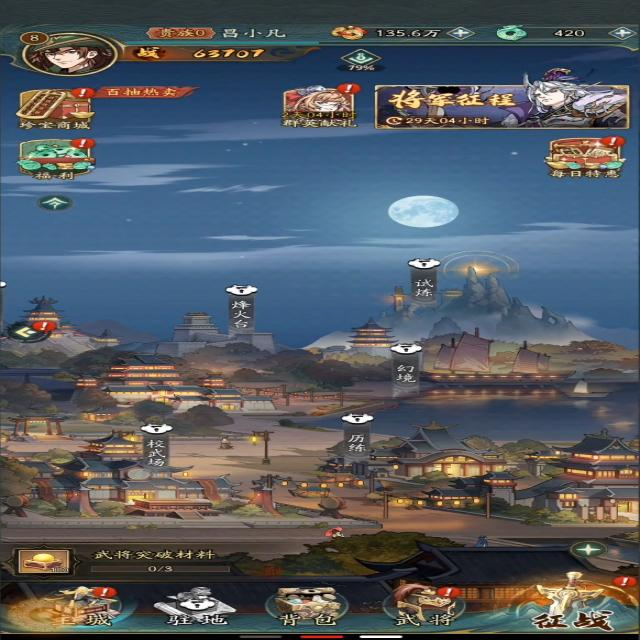hint-reddot: (331, 80, 367, 96), (29, 320, 66, 334), (69, 85, 99, 101), (66, 135, 100, 149), (600, 134, 630, 148), (611, 574, 638, 588), (90, 586, 118, 599), (438, 586, 460, 599)
navigation-DailyDiscount: (533, 134, 627, 184)
navigation-bag: (255, 581, 365, 631)
navigation-fenghuotai-off: (218, 281, 266, 339)
navigation-fight: (492, 568, 632, 634)
navigation-hero: (375, 578, 473, 629)
navigation-huanjing-off: (382, 339, 433, 398)
navigation-jiaowuchang-off: (130, 420, 180, 472)
navigation-lilian-off: (337, 412, 375, 459)
navigation-main: (11, 580, 141, 634)
navigation-role: (17, 27, 121, 78)
navigation-shilian-off: (402, 254, 445, 307)
navigation-station-off: (149, 583, 245, 632)
navigation-treasureMall: (12, 82, 98, 133)
navigation-welfare: (12, 135, 101, 183)
operation-close: (572, 540, 617, 561)
